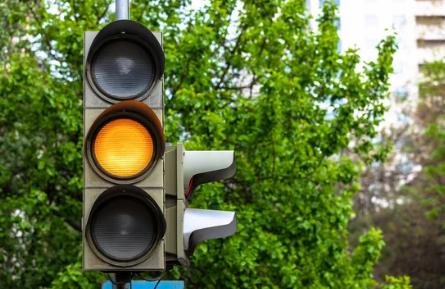yellow_light: (82, 20, 166, 270)
